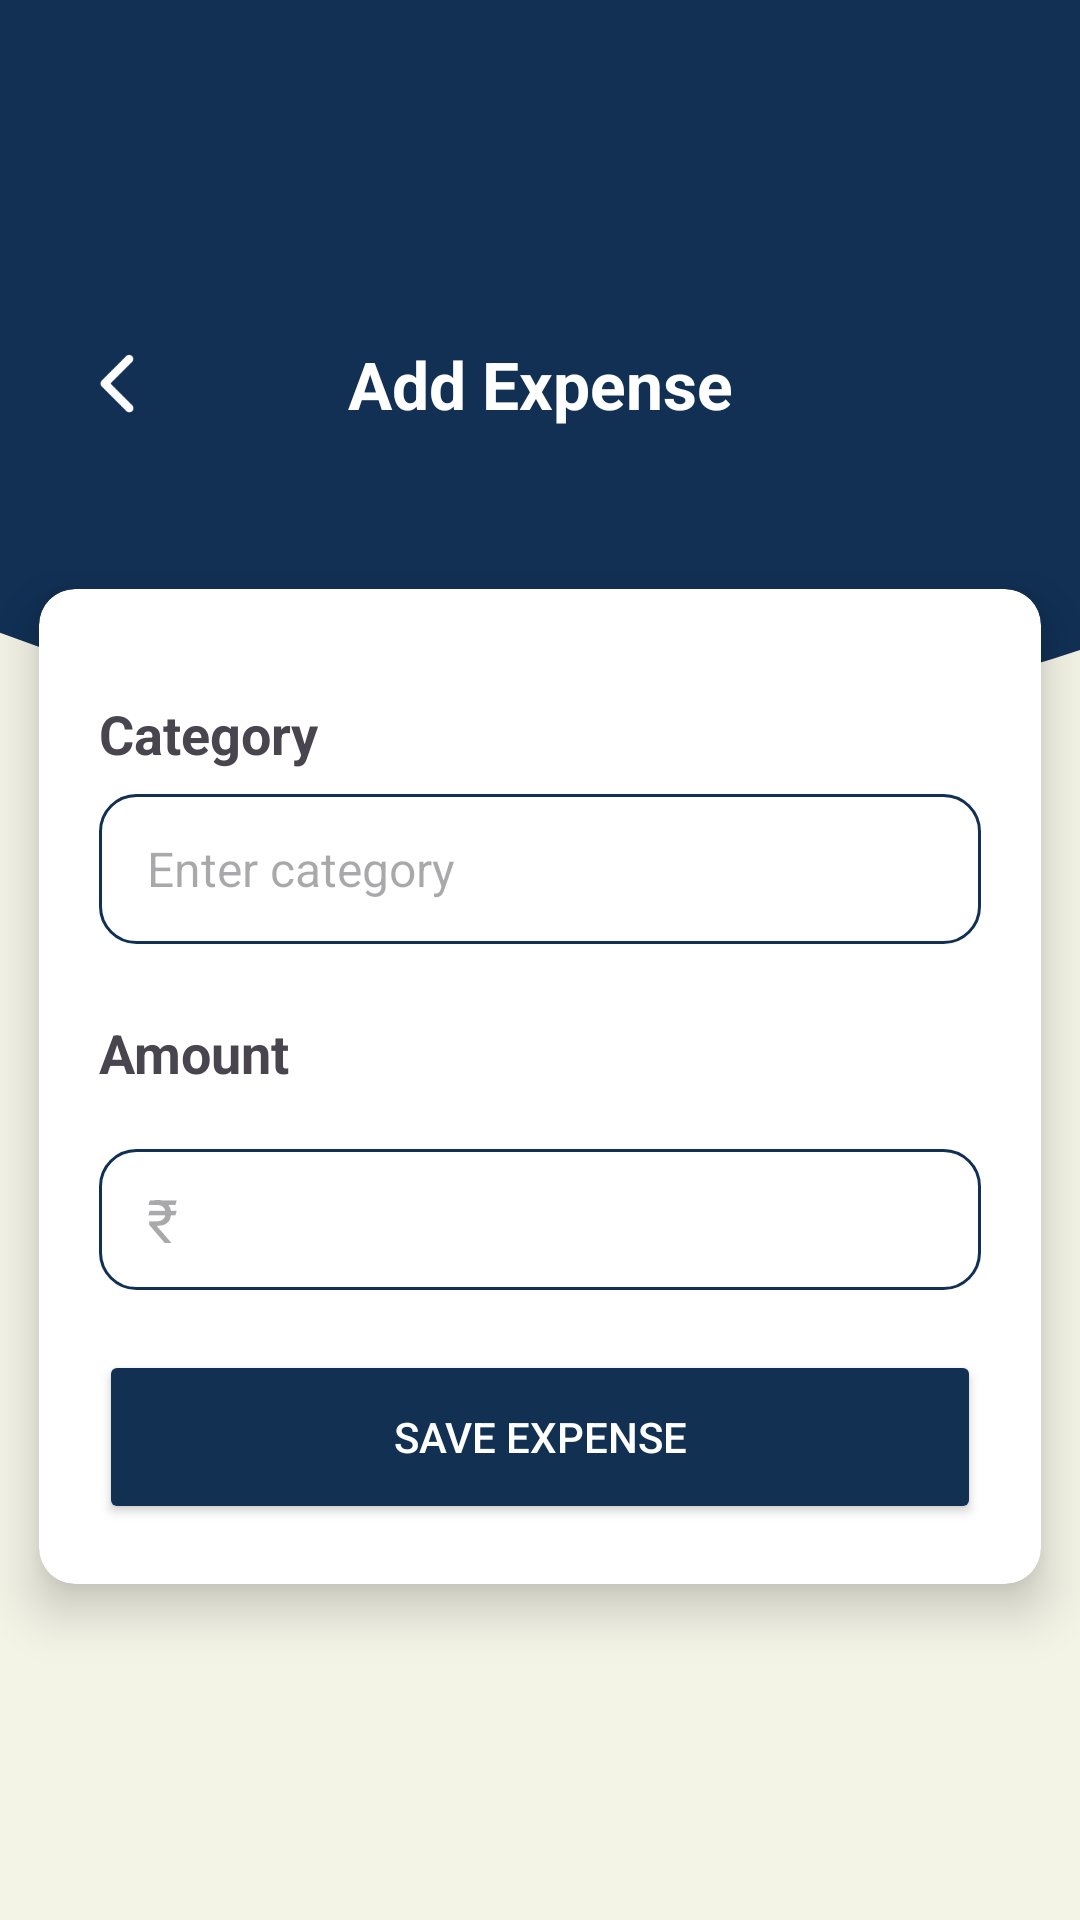

Screen size 1080px x 1920px. Icon name, then its box in pixels as (x1, y1, x2, y2):
Back: (100, 355, 134, 413)
